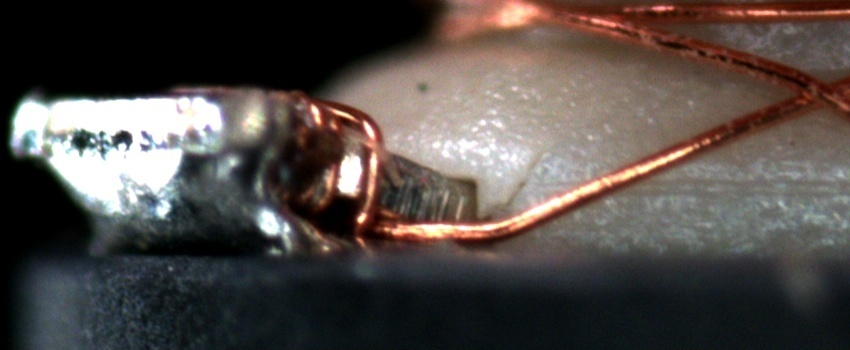CL: (770, 65, 845, 116)
DL: (529, 153, 850, 213)
TE: (279, 88, 395, 241)
